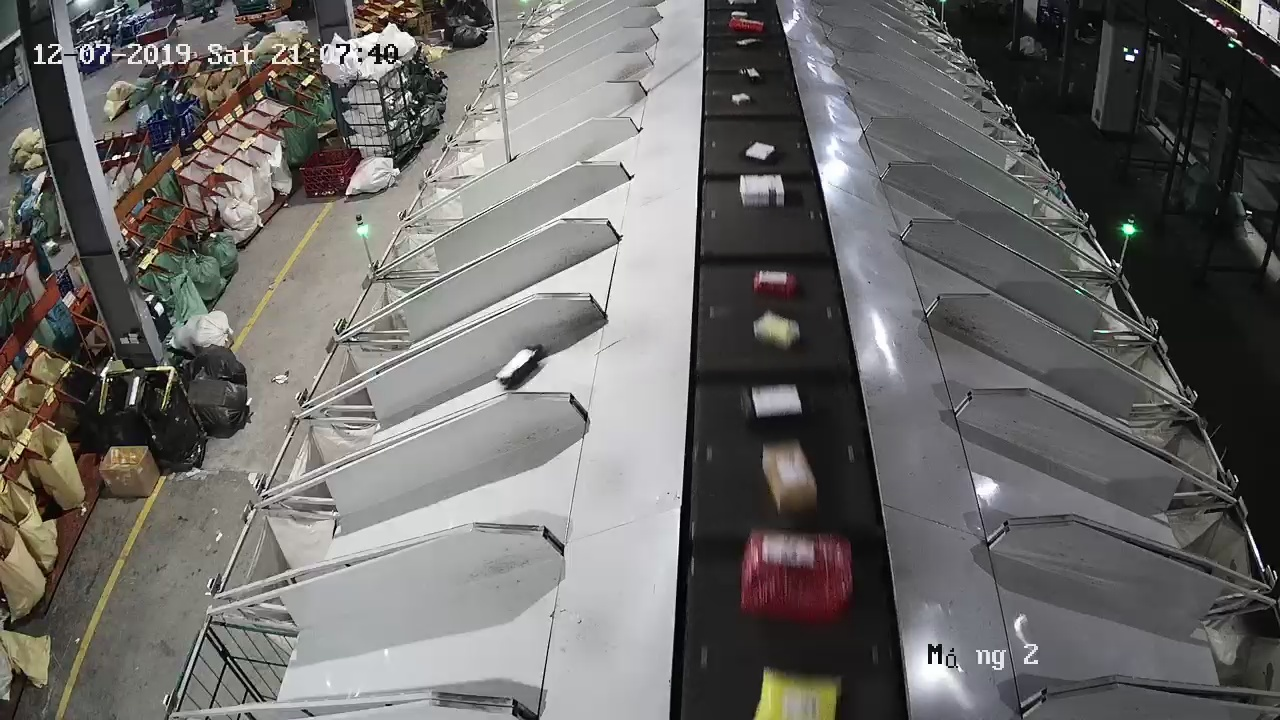parcel: (495, 343, 543, 389)
